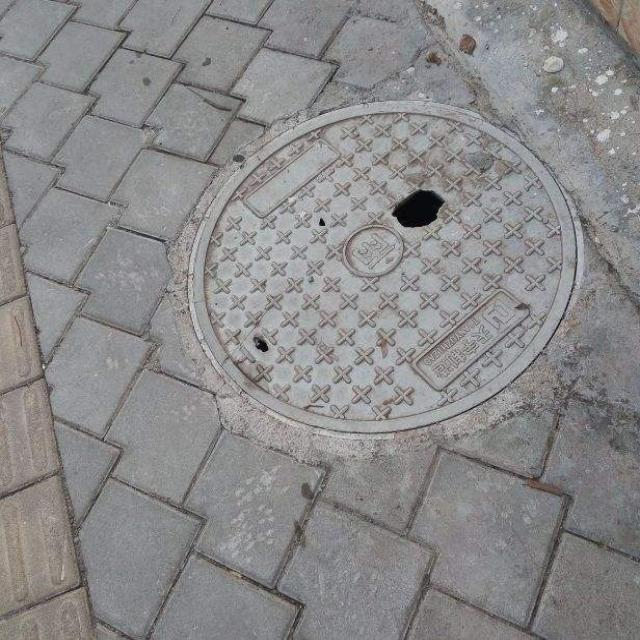Faulty: (183, 100, 578, 437)
